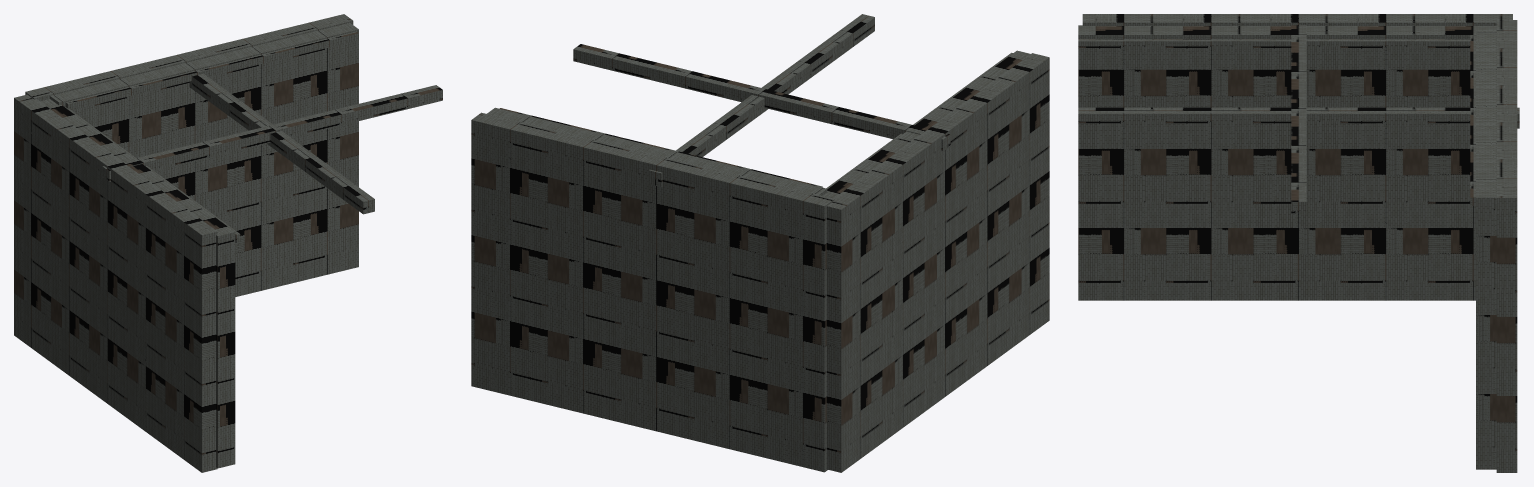
File: dungeon_room_corner_vault.glb
3 views of the same model, side by side, from view 1: azimuth 30°, elevation 25°; view 2: azimuth 150°, elevation 25°; view 3: azimuth 270°, elevation 25° (orthographic). The views are drawn at different scales.
Parts seen in each view (by area): view 1: dungeon_room_corner_vault; view 2: dungeon_room_corner_vault; view 3: dungeon_room_corner_vault.
Boxes of the visible parts, x1,y1,x2,y2 form: dungeon_room_corner_vault: (14,14,442,472); dungeon_room_corner_vault: (471,14,1049,472); dungeon_room_corner_vault: (1078,14,1519,472).
Size of the model in its own units: 5.05 by 3.47 by 5.05.
1 material, 1 textured.
